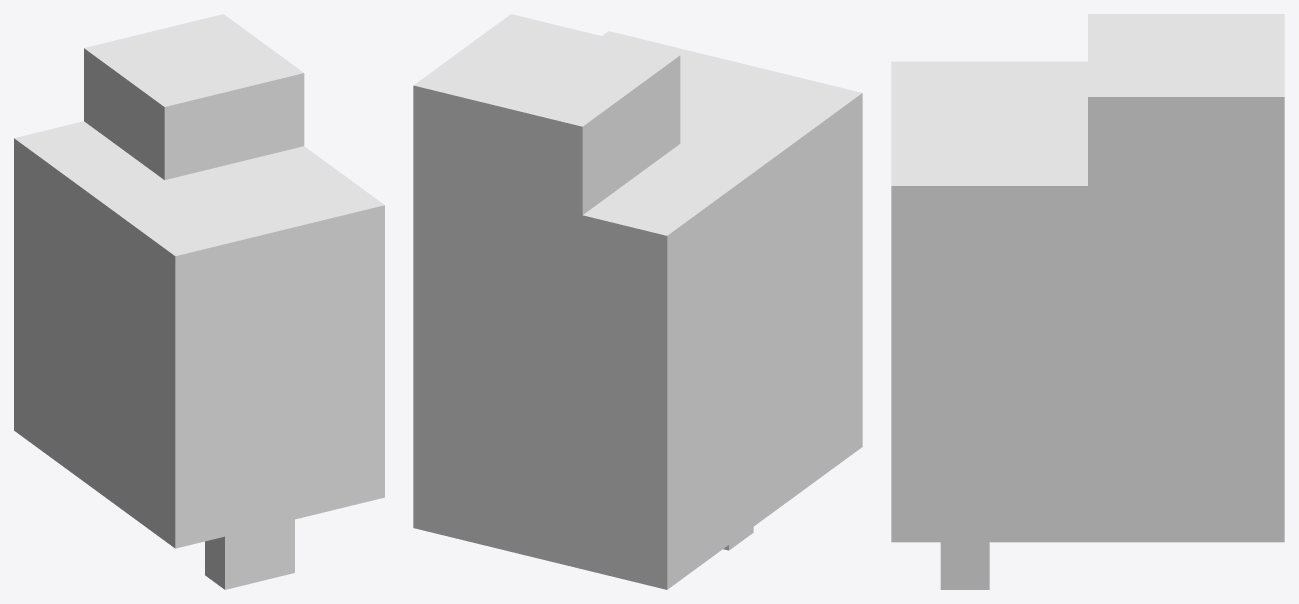
File: PlayerOrange-5-Player_RLeg.obj
3 views of the same model, side by side, from view 1: azimuth 30°, elevation 25°; view 2: azimuth 150°, elevation 25°; view 3: azimuth 270°, elevation 25° (orthographic). The views are drawn at different scales.
Parts seen in each view (by area): view 1: Player_RLeg; view 2: Player_RLeg; view 3: Player_RLeg.
Part boxes in pixels (x1=…): Player_RLeg: x1=14, y1=14, x2=384, y2=589; Player_RLeg: x1=413, y1=14, x2=862, y2=589; Player_RLeg: x1=891, y1=14, x2=1284, y2=589.
Bounding box in the file's own units: 0.6 × 1.2 × 0.8.
1 material, 1 textured.
